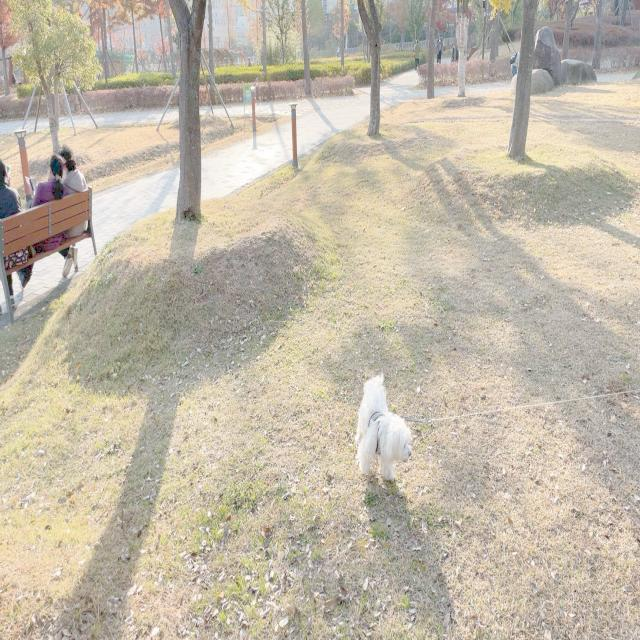Dog: (355, 370, 413, 485)
